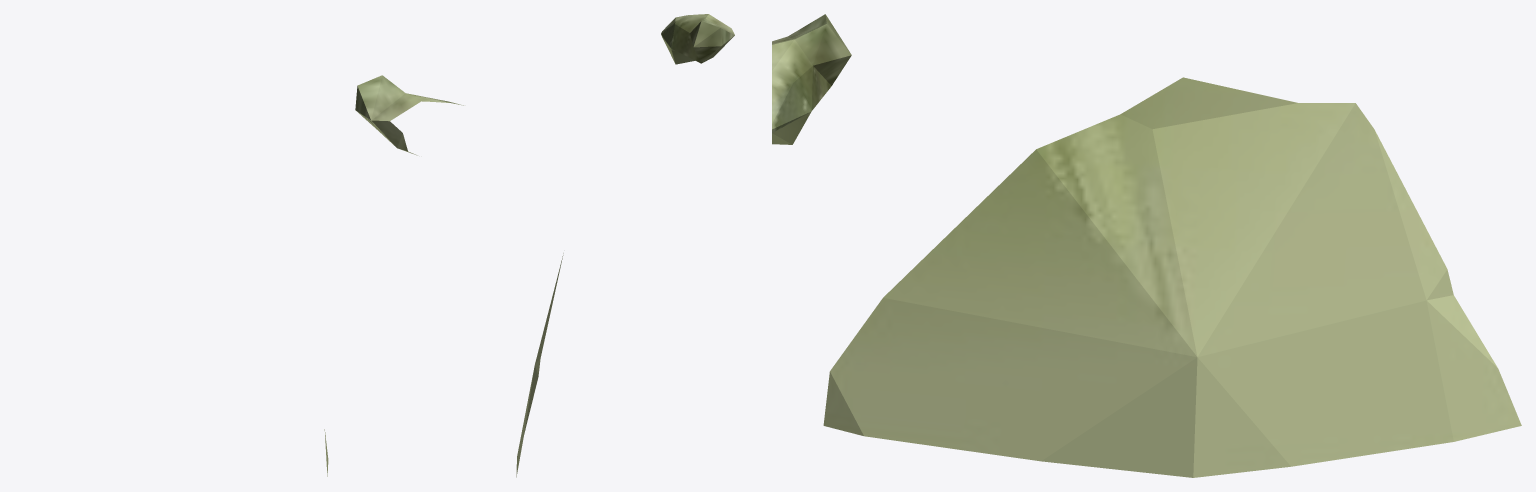
The picture shows the model from 3 angles, left to right: view 1: azimuth 30°, elevation 25°; view 2: azimuth 150°, elevation 25°; view 3: azimuth 270°, elevation 25°; orthographic projection. The views are drawn at different scales.
Bounding box in the file's own units: 0.4074 × 1.1 × 1.73.
1 material, 1 textured.
